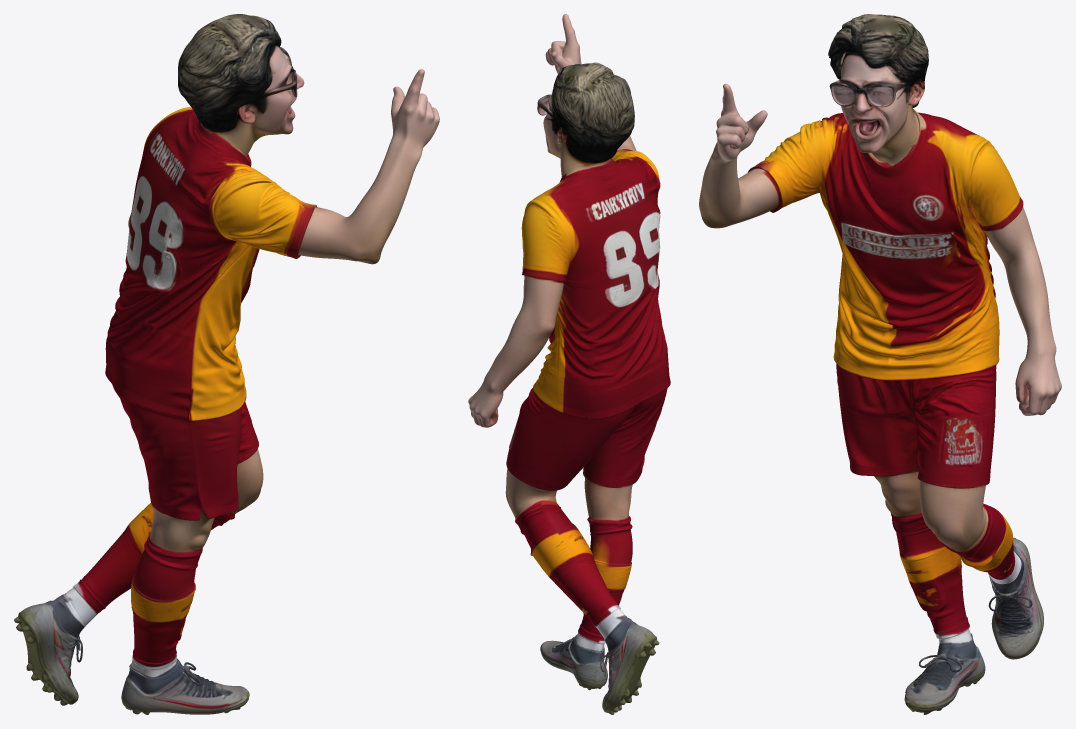
Rendered from ruzgar.glb.
The picture shows the model from 3 angles, left to right: view 1: azimuth 30°, elevation 25°; view 2: azimuth 150°, elevation 25°; view 3: azimuth 270°, elevation 25°; orthographic projection. The views are drawn at different scales.
Visible parts, largest first — view 1: node_0; view 2: node_0; view 3: node_0.
Part boxes in pixels (box(x1,y1,x2,y2)): node_0: box(14, 14, 439, 714); node_0: box(468, 14, 670, 714); node_0: box(699, 14, 1061, 714).
Size of the model in its own units: 0.4432 by 1.09 by 0.5198.
1 material, 1 textured.
